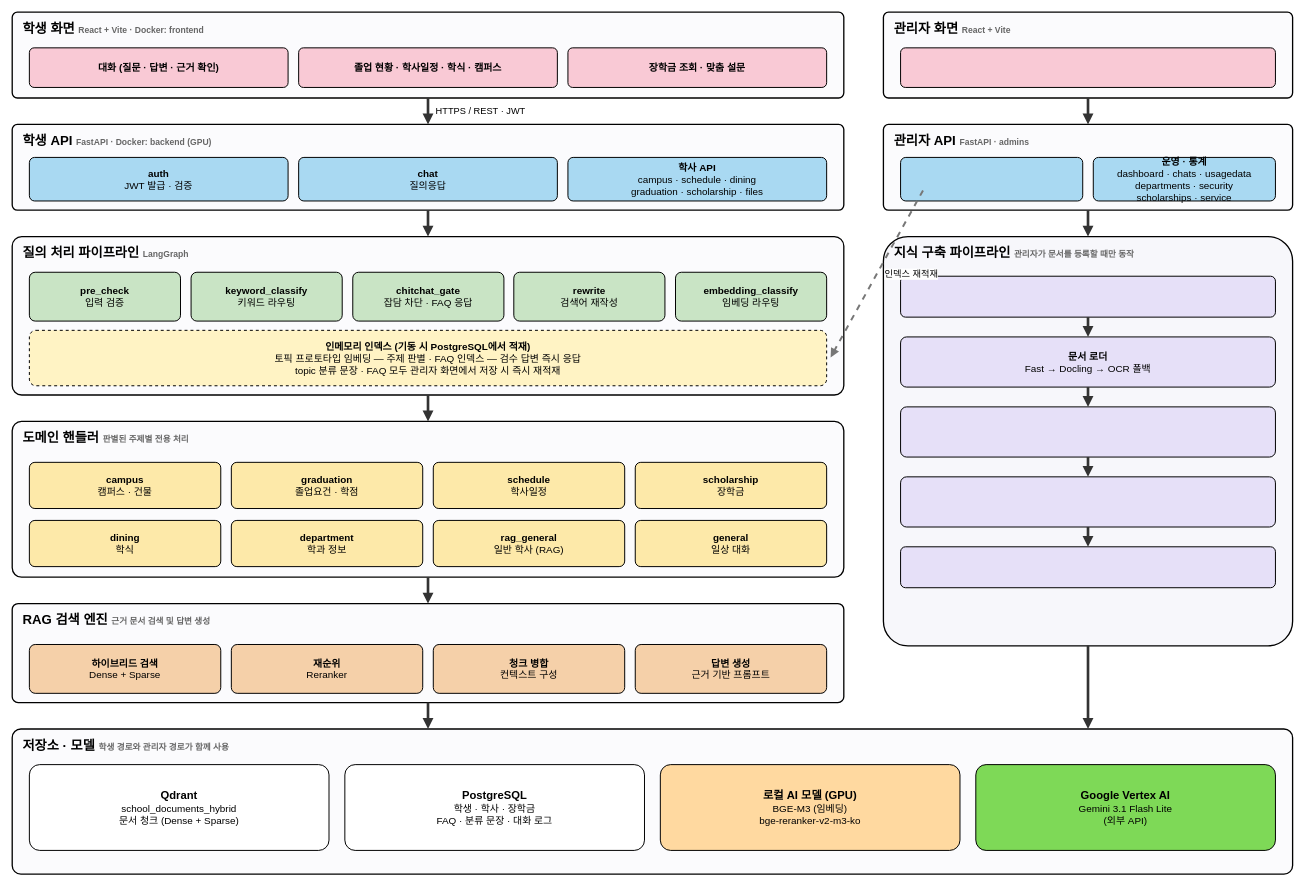
Image size: 1304x886. Some labels were removed from this diagram. Here are the shapes that lost their labels. From the top down, the centre of each, then its label:
At point 1088,67: "문서 · 청크 관리 이용 통계 FAQ · 학과 · 분류 문장 관리".
At point 991,179: "지식 · 문서 rag · files · faq 문서 · 청크 · topic · FAQ".
At point 1088,296: "문서 업로드 / 웹 크롤링".
At point 1088,431: "청킹 조문 · 구조 단위 분할".
At point 1088,501: "임베딩 생성 Dense + Sparse 벡터".
At point 1088,567: "Qdrant 저장 / 갱신 / 삭제".
